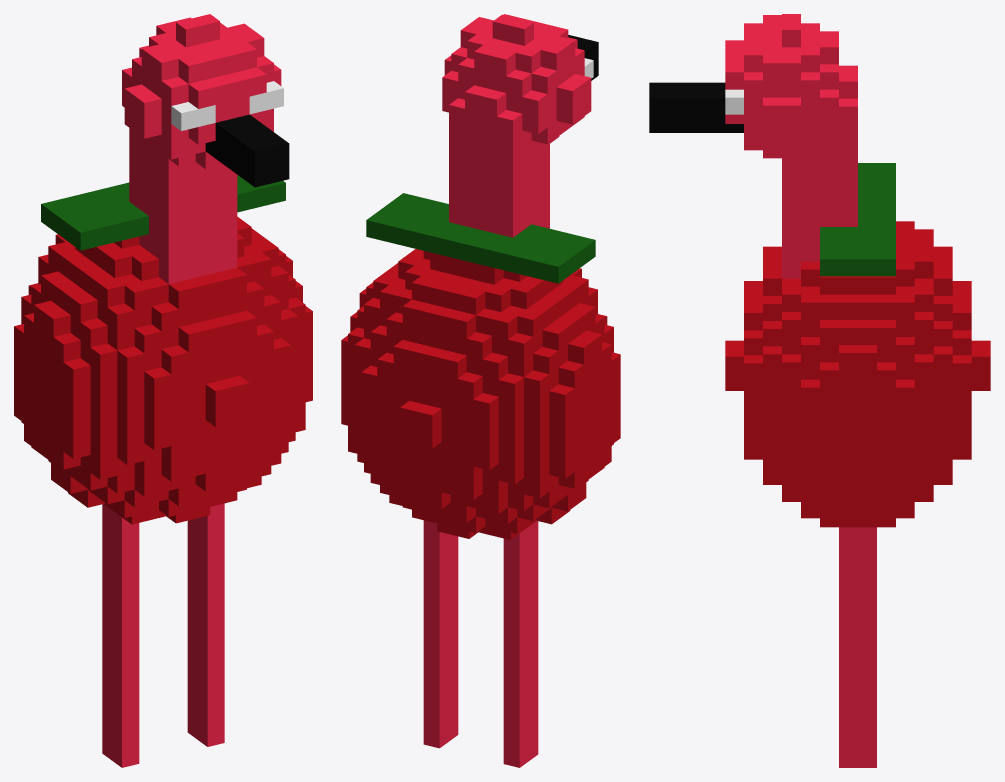
Rendered from strawberrelli_flamingelli.glb.
3 renders of one model, left to right at view 1: azimuth 30°, elevation 25°; view 2: azimuth 150°, elevation 25°; view 3: azimuth 270°, elevation 25°, orthographic. The views are drawn at different scales.
Visible parts, largest first — view 1: brainrot; view 2: brainrot; view 3: brainrot.
Boxes of the visible parts, x1=… form: brainrot: x1=14, y1=14, x2=312, y2=767; brainrot: x1=341, y1=14, x2=620, y2=767; brainrot: x1=649, y1=14, x2=990, y2=767.
Size of the model in its own units: 2 by 6 by 2.57.
1 material, 1 textured.
